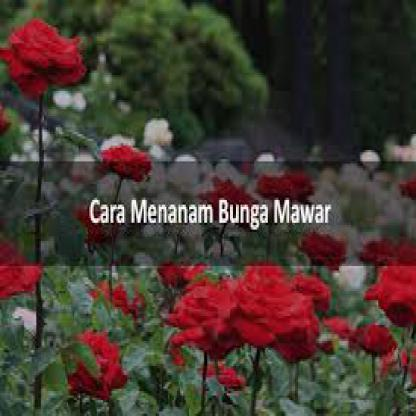Rose-Mawar: (3, 17, 416, 415)
